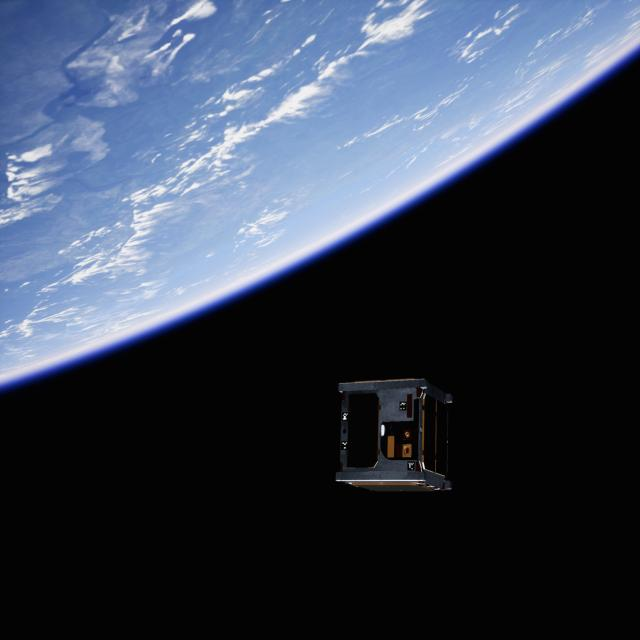satellite: (323, 369, 464, 503)
